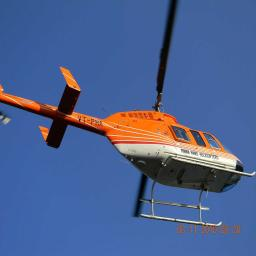helicopter: (1, 15, 255, 234)
